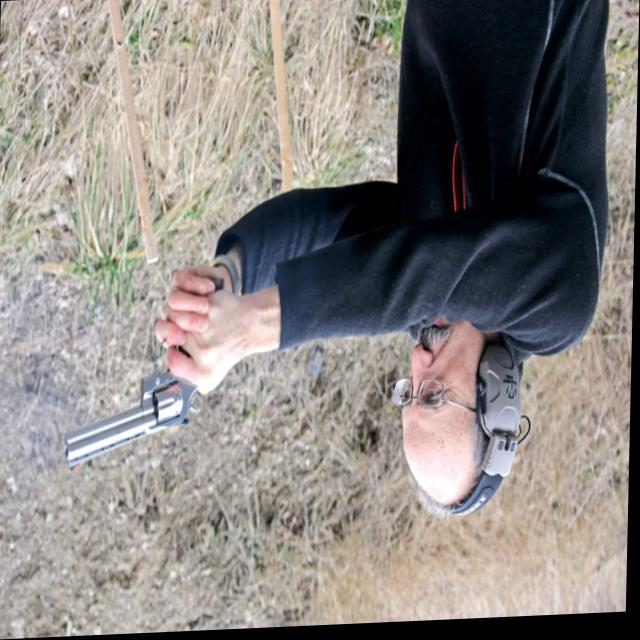handgun: (65, 273, 246, 470)
